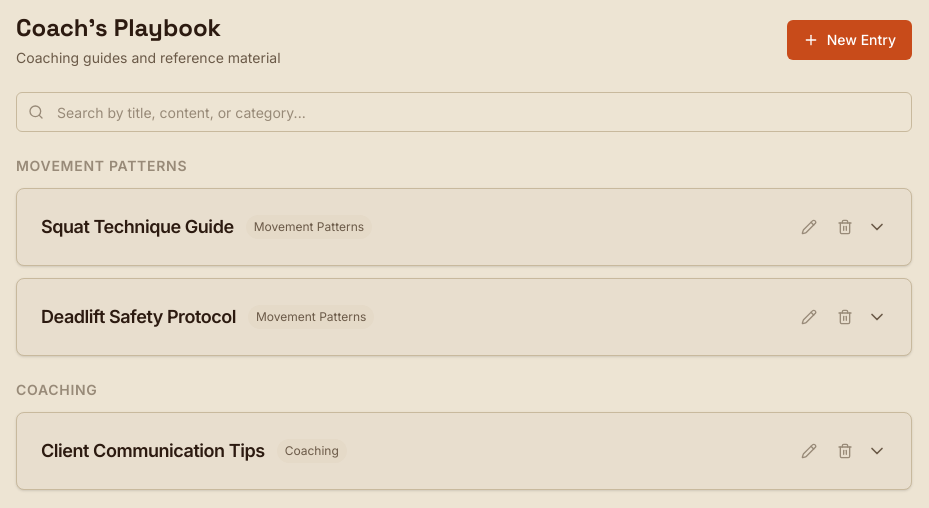
Test: PlaybookPage › handles search case insensitivity
The width and height of the screenshot is (929, 508).
Expected: the heading "Squat Technique Guide" is shown, [41,213,234,241]
Type "SQUAT" into the field with placeholder "Search by title, content, or category...".
click(464, 112); type("SQUAT")  # box [16,92,912,132]
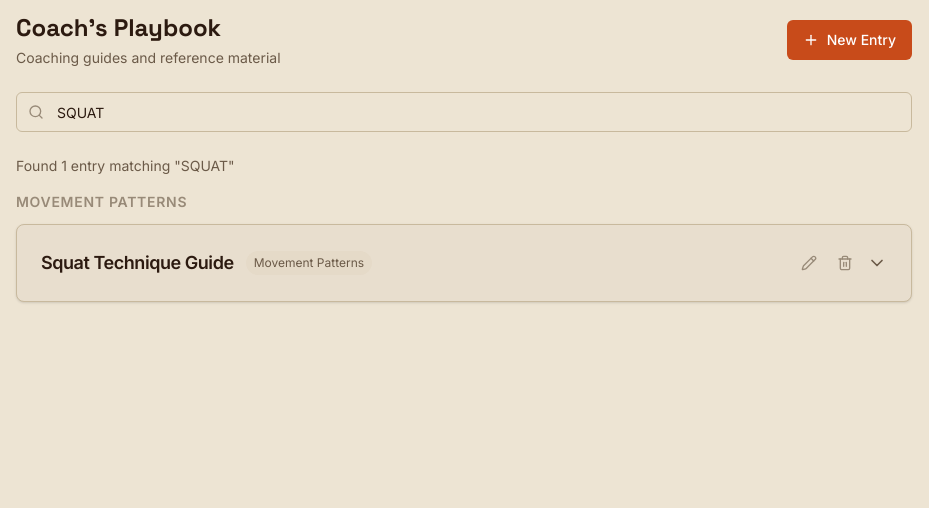
Expected: the heading "Squat Technique Guide" is shown, [41,249,234,277]
Replace the text in the field with placeholder "Search by title, content, or category..." with "deadlift" at coordinates (464, 112), box [16,92,912,132]
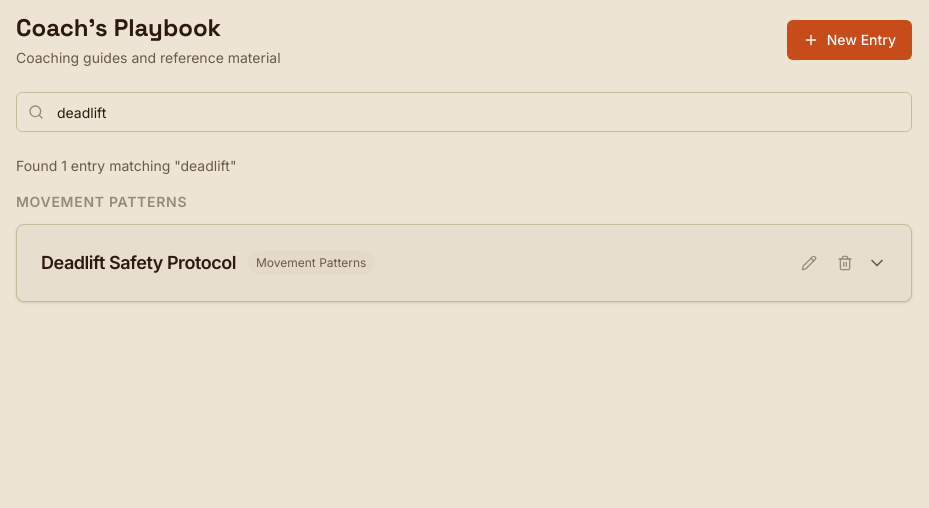
Expected: the heading "Deadlift Safety Protocol" is shown, [41,249,236,277]
Replace the text in the field with placeholder "Search by title, content, or category..." with "Communication" at coordinates (464, 112), box [16,92,912,132]
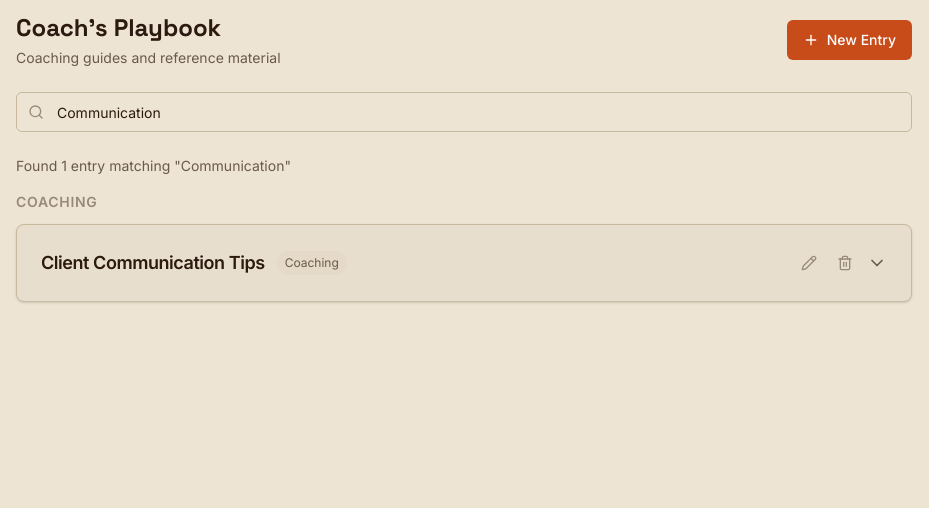
Expected: the heading "Client Communication Tips" is shown, [41,249,265,277]
